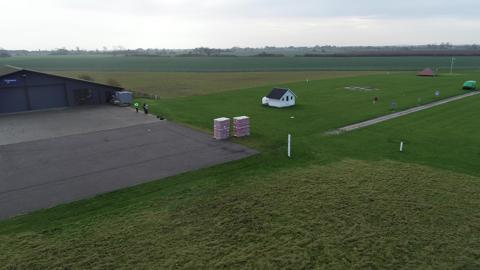RockwoolPallet: (233, 115, 250, 137)
